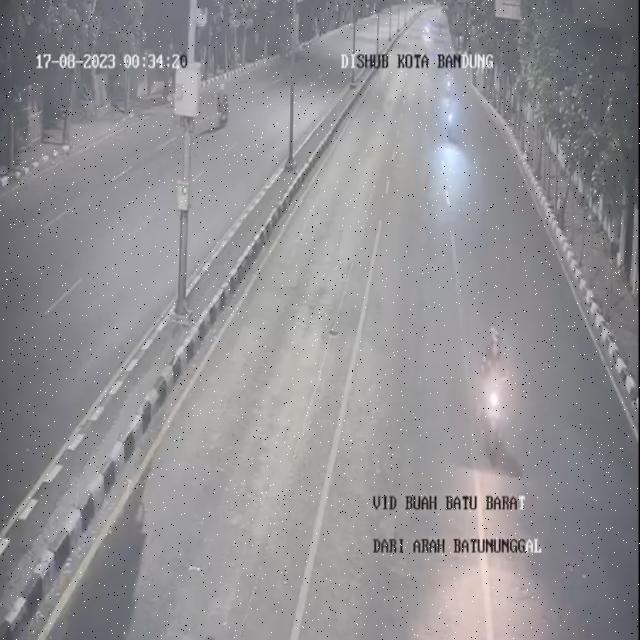motorcycle: (475, 318, 519, 470)
